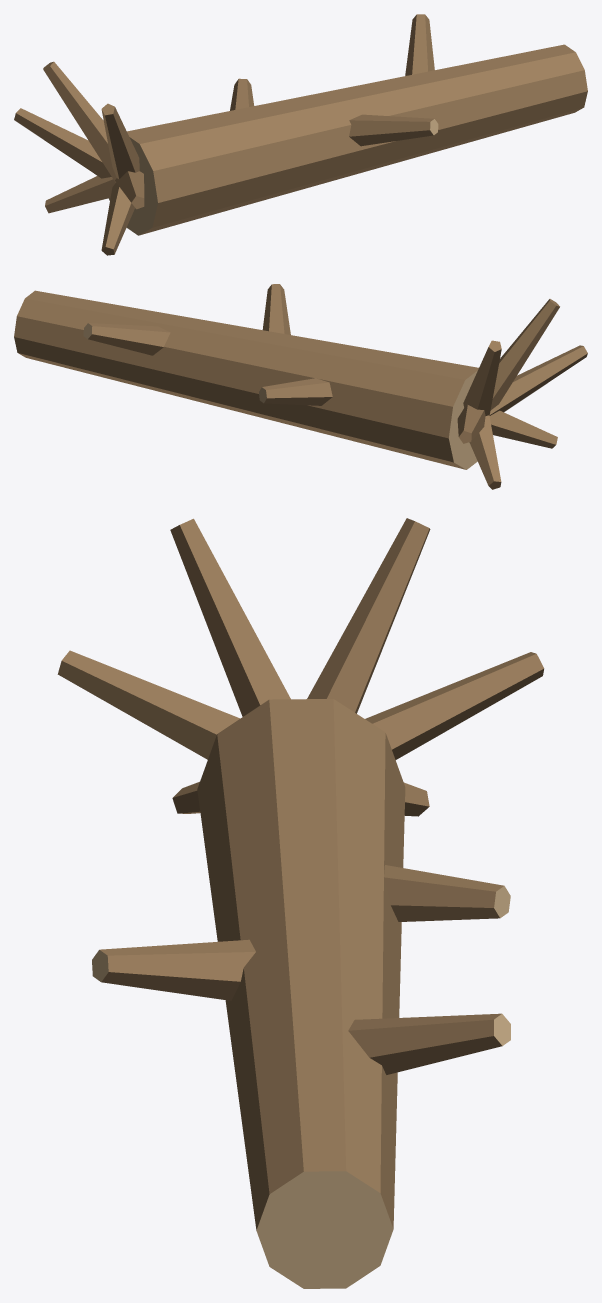
Rendered from fallen_log_03.glb.
The picture shows the model from 3 angles, top to bottom: view 1: azimuth 30°, elevation 25°; view 2: azimuth 150°, elevation 25°; view 3: azimuth 270°, elevation 25°; orthographic projection. The views are drawn at different scales.
Parts seen in each view (by area): view 1: Fallen_log_03; view 2: Fallen_log_03; view 3: Fallen_log_03.
Part boxes in pixels (<box>): Fallen_log_03: <box>14,14,587,255</box>; Fallen_log_03: <box>14,284,587,489</box>; Fallen_log_03: <box>57,518,544,1288</box>.
Size of the model in its own units: 4.83 by 1.45 by 2.06.
